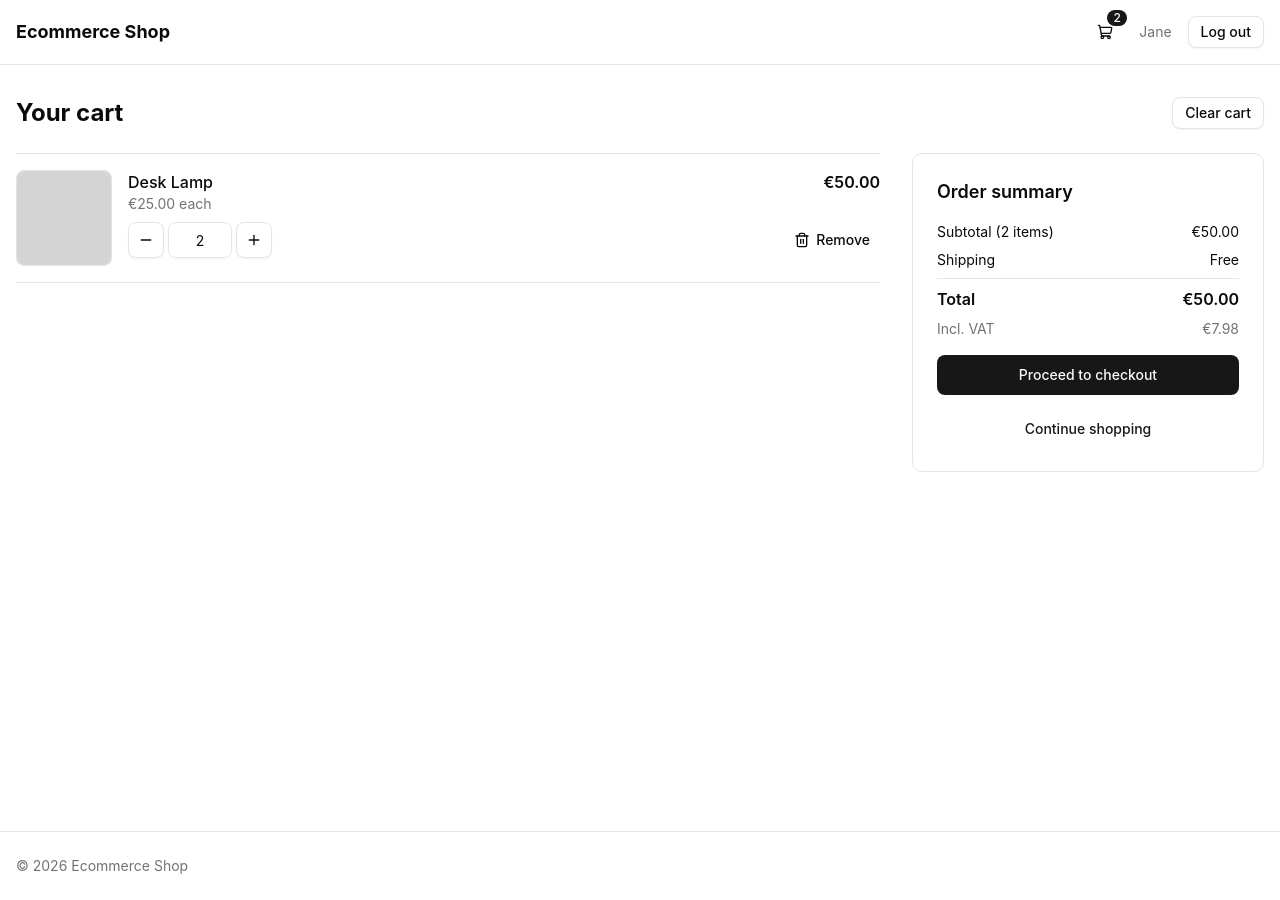
it: cart page › shows the server message when a change fails
What coordinates should you click on to do the following:
click the button named "Increase quantity of desk lamp"
I would click on:
 (254, 240)
Its box is [236, 222, 272, 258].
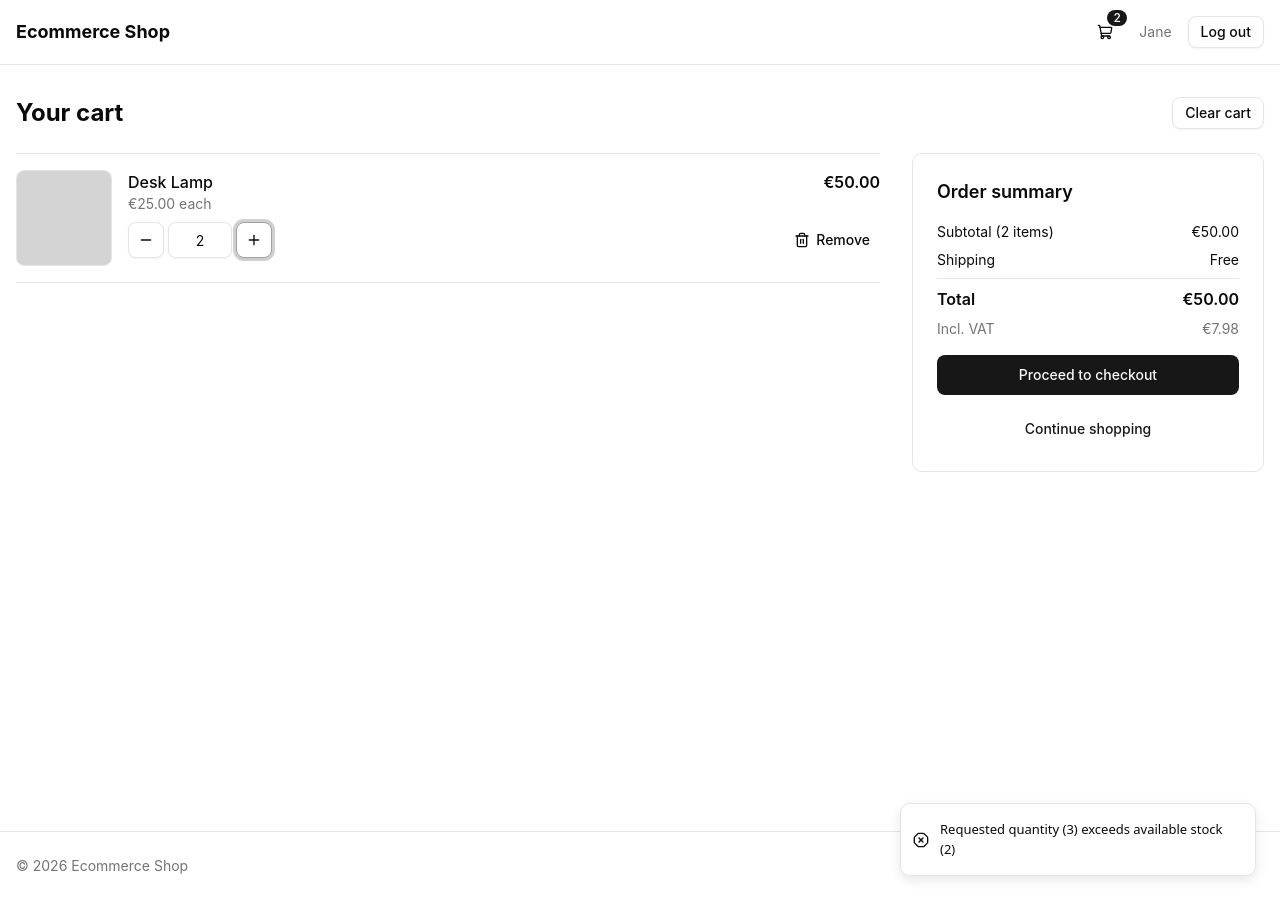
Expected: the text "Requested quantity (3) exceeds available stock (2)" is shown, [940, 820, 1239, 859]
